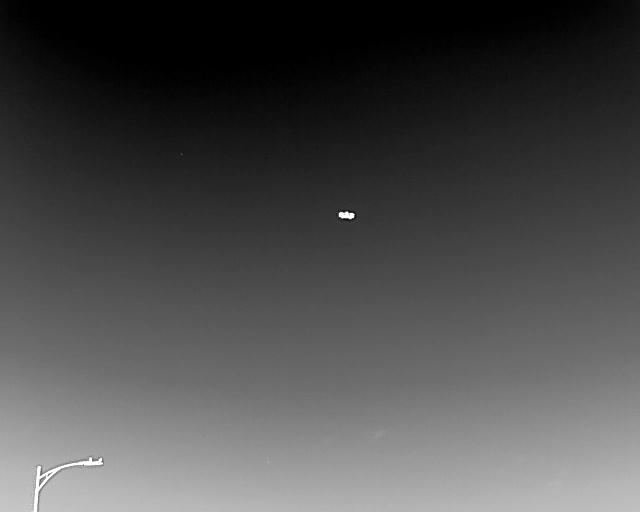fpv-drone: (336, 210, 356, 221)
